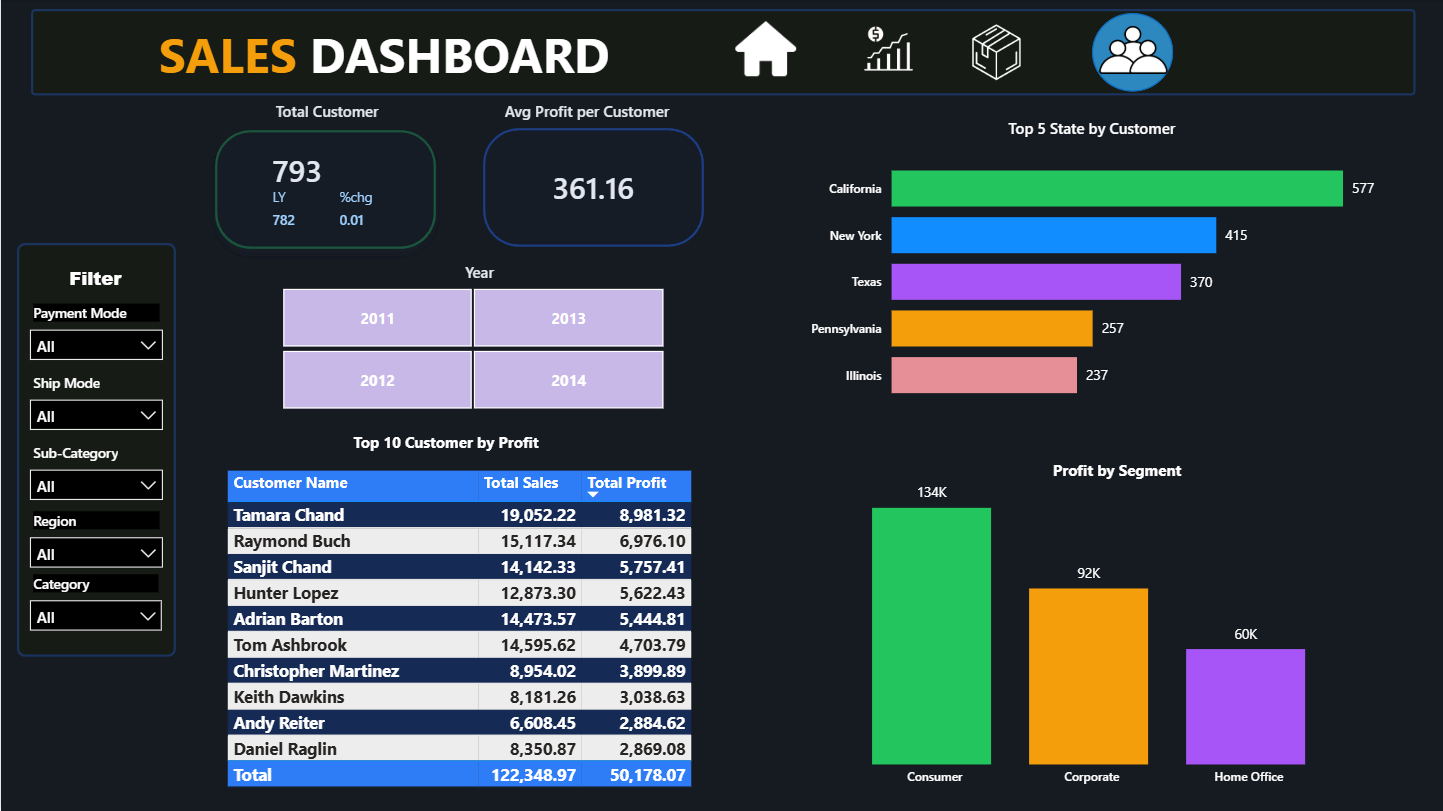

What the dashboard file says about the page in this screenshot:
{"tool":"powerbi","page":{"name":"Customer Segment","canvas":[1280,720],"ordinal":3},"visuals":[{"type":"shape","box":[418.1,105.7,213.7,123.1],"z":0,"group":"g1"},{"type":"shape","box":[181.2,106.9,213.7,123.1],"z":0},{"type":"shape","box":[26.7,9.3,1227.7,76.7],"z":1000},{"type":"textbox","box":[135.1,14,411.9,72.1],"z":2000},{"type":"shape","box":[14,216.6,140.9,366.9],"z":3000},{"type":"slicer","title":"Sales by Ship Mode","fields":{"Values":["Superstore.Payment Mode"]},"box":[18.6,265.6,131.6,61.7],"z":4000},{"type":"slicer","title":"Sales by Ship Mode","fields":{"Values":["Superstore.Ship Mode"]},"box":[18.6,327.3,131.6,61.7],"z":5000},{"type":"slicer","title":"Sales by Ship Mode","fields":{"Values":["Superstore.Sub-Category"]},"box":[18.6,389,131.6,62.9],"z":6000},{"type":"textbox","box":[43,230.4,80.3,36.1],"z":7000},{"type":"slicer","title":"Sales by Ship Mode","fields":{"Values":["Superstore.Region"]},"box":[18.6,451.9,131.6,55.9],"z":8000},{"type":"slicer","title":"Sales by Ship Mode","fields":{"Values":["Superstore.Category"]},"box":[18.6,507.8,131.5,57],"z":9000},{"type":"tableEx","title":"Top 10 Products by Profit","fields":{"Values":["Superstore.Customer Name","_Measures.Total Sales","_Measures.Total Profit"]},"box":[195.1,413.5,444.9,291.5],"z":10000},{"type":"textbox","box":[230,379.8,329.9,33.7],"z":11000},{"type":"clusteredColumnChart","fields":{"Category":["Superstore.Segment"],"Y":["_Measures.Total Profit"]},"box":[714.3,413.5,505.3,291.5],"z":12000},{"type":"textbox","box":[824.7,404.2,330.2,47.8],"z":13000},{"type":"cardVisual","title":"Total Sales","fields":{"Data":["_Measures.Total Customer"]},"box":[230,122,139.4,90.6],"z":14000},{"type":"textbox","box":[238.1,86,117.3,31.4],"z":15000},{"type":"group","id":"g1","title":"Group 1","box":[418.1,105.7,213.7,123.1],"z":16000},{"type":"cardVisual","title":"Total Sales","fields":{"Data":["_Measures.Avg Profit per Customer"]},"box":[477.3,120.8,139.4,90.6],"z":16000,"group":"g1"},{"type":"textbox","box":[441.4,86,166.1,31.4],"z":17000},{"type":"barChart","title":"Top 5 State by Customer","fields":{"Category":["Superstore.State"],"Y":["_Measures.Total Customer"]},"box":[714.3,105.7,505.3,263.7],"z":18000},{"type":"slicer","fields":{"Values":["Date Table.Date.Variation.Date Hierarchy.Year"]},"box":[224.2,249.7,386.8,119.6],"z":19000},{"type":"textbox","box":[341.5,228.8,166.1,31.4],"z":20000},{"type":"image","box":[824.7,5.8,116.2,82.5],"z":21000},{"type":"image","box":[641.2,19.7,74.3,48.8],"z":23000},{"type":"image","box":[739.9,4.6,95.2,79],"z":24000},{"type":"shape","box":[967.5,12.8,72,69.7],"z":25000},{"type":"image","box":[965.2,13.9,76.7,61.6],"z":25500}]}

Visuals, with their boxes in screenshot pixels (x1, y1, x2, y2), scaled from the page's 1280x720 canvas onto the 1443x811 screenshot:
shape: l=471, t=119, r=712, b=258
shape: l=204, t=120, r=445, b=259
shape: l=30, t=10, r=1414, b=97
textbox: l=152, t=16, r=617, b=97
shape: l=16, t=244, r=175, b=657
"Sales by Ship Mode" slicer: l=21, t=299, r=169, b=369
"Sales by Ship Mode" slicer: l=21, t=369, r=169, b=438
"Sales by Ship Mode" slicer: l=21, t=438, r=169, b=509
textbox: l=48, t=260, r=139, b=300
"Sales by Ship Mode" slicer: l=21, t=509, r=169, b=572
"Sales by Ship Mode" slicer: l=21, t=572, r=169, b=636
"Top 10 Products by Profit" tableEx: l=220, t=466, r=722, b=794
textbox: l=259, t=428, r=631, b=466
clusteredColumnChart - Superstore.Segment x _Measures.Total Profit: l=805, t=466, r=1375, b=794
textbox: l=930, t=455, r=1302, b=509
"Total Sales" cardVisual: l=259, t=137, r=416, b=239
textbox: l=268, t=97, r=401, b=132
"Group 1" group: l=471, t=119, r=712, b=258
"Total Sales" cardVisual: l=538, t=136, r=695, b=238
textbox: l=498, t=97, r=685, b=132
"Top 5 State by Customer" barChart: l=805, t=119, r=1375, b=416
slicer - Date Table.Date.Variation.Date Hierarchy.Year: l=253, t=281, r=689, b=416
textbox: l=385, t=258, r=572, b=293
image: l=930, t=7, r=1061, b=99
image: l=723, t=22, r=807, b=77
image: l=834, t=5, r=941, b=94
shape: l=1091, t=14, r=1172, b=93
image: l=1088, t=16, r=1175, b=85
